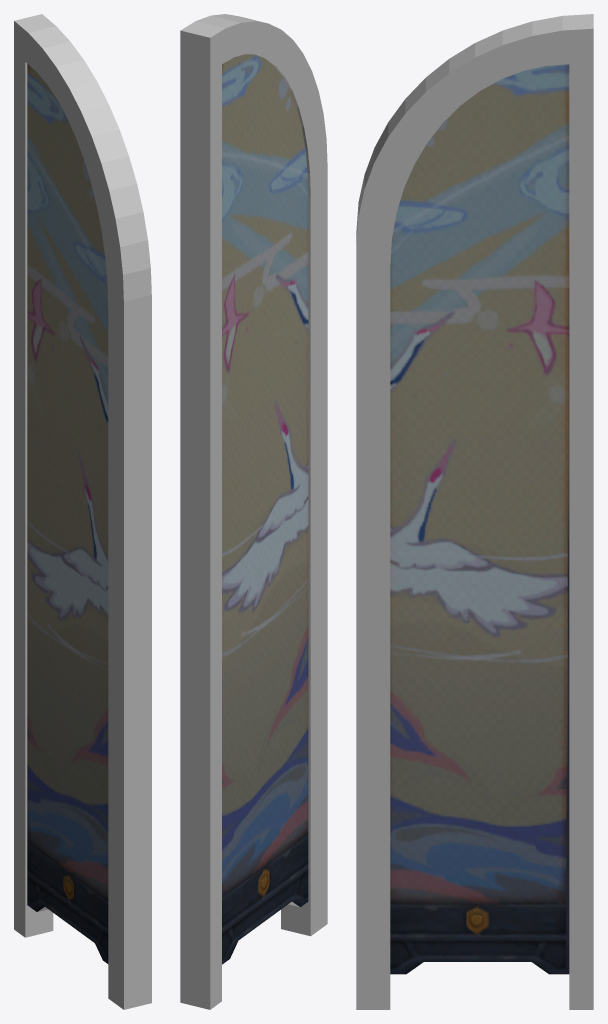
File: LeftMid.obj
3 renders of one model, left to right at view 1: azimuth 30°, elevation 25°; view 2: azimuth 150°, elevation 25°; view 3: azimuth 270°, elevation 25°, orthographic. The views are drawn at different scales.
Parts seen in each view (by area): view 1: Biombo_Cube.003; view 2: Biombo_Cube.003; view 3: Biombo_Cube.003.
Part boxes in pixels (x1,y1,x2,y2): Biombo_Cube.003: [14, 14, 151, 1009]; Biombo_Cube.003: [180, 14, 327, 1009]; Biombo_Cube.003: [356, 14, 593, 1009].
Bounding box in the file's own units: 0.1023 × 3.18 × 0.6961.
